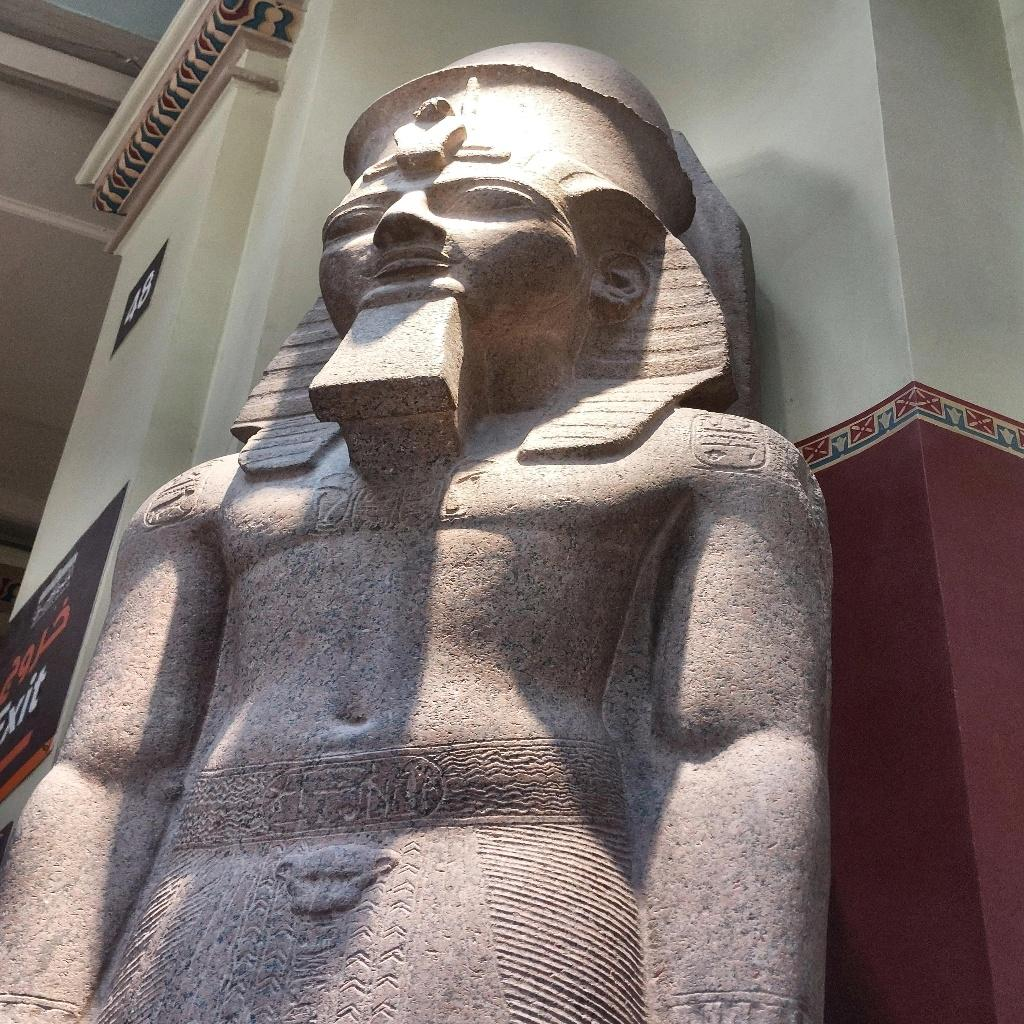Colossal Statue of Ramesses II: (2, 40, 840, 1022)
